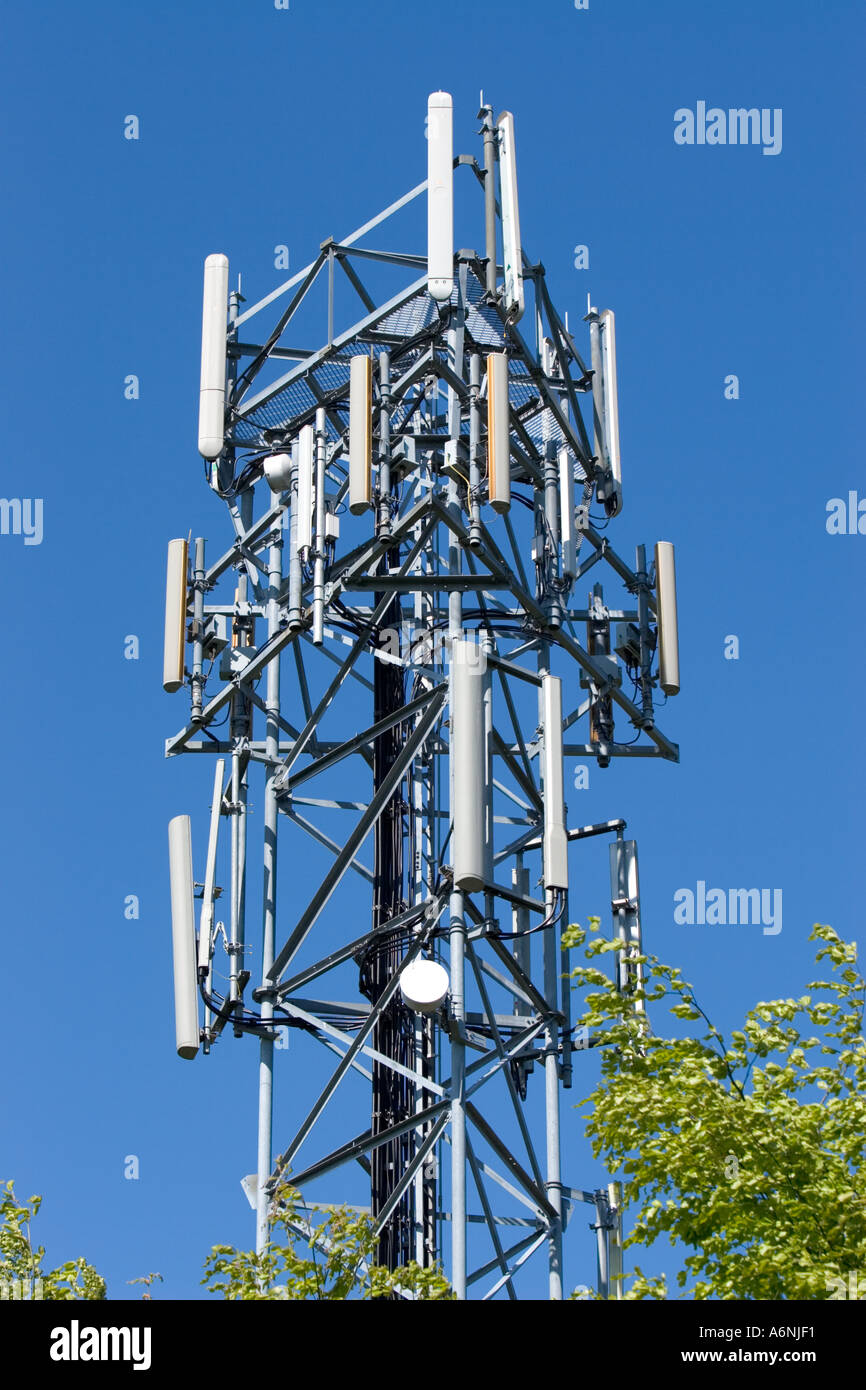ba: (375, 936, 452, 1025)
sa: (516, 605, 588, 928), (144, 798, 236, 1043), (436, 624, 503, 918), (170, 237, 234, 504), (404, 65, 472, 310), (574, 276, 640, 523), (620, 498, 695, 702), (481, 77, 542, 327), (267, 393, 326, 627), (335, 324, 404, 524), (146, 514, 200, 710)
